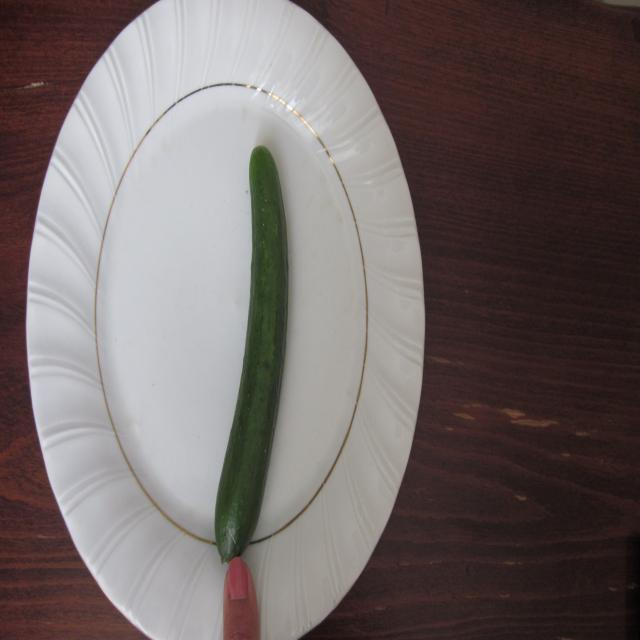Cucumber: (211, 139, 294, 551)
Finger: (215, 555, 265, 640)
